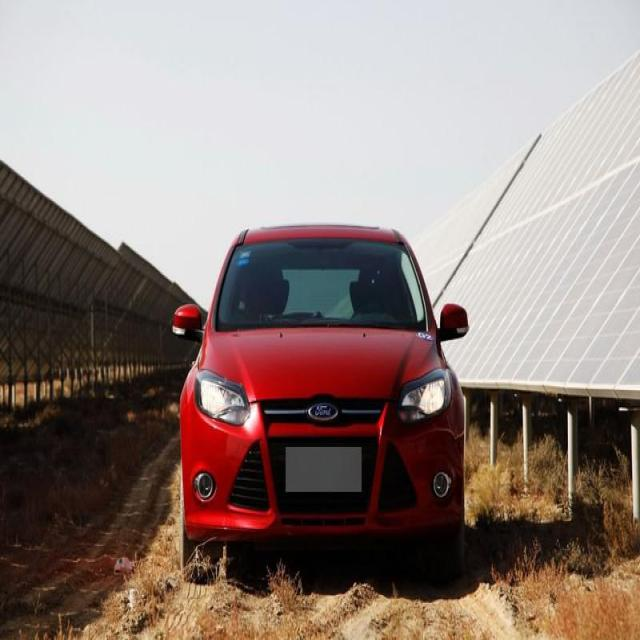front_bumper: (179, 408, 466, 544)
front_glass: (215, 236, 430, 334)
front_left_side_light: (395, 366, 452, 426)
front_left_side_mirror: (438, 300, 470, 341)
front_right_side_light: (193, 364, 252, 428)
front_right_side_mirror: (171, 300, 203, 339)
wheel: (180, 496, 222, 583)
